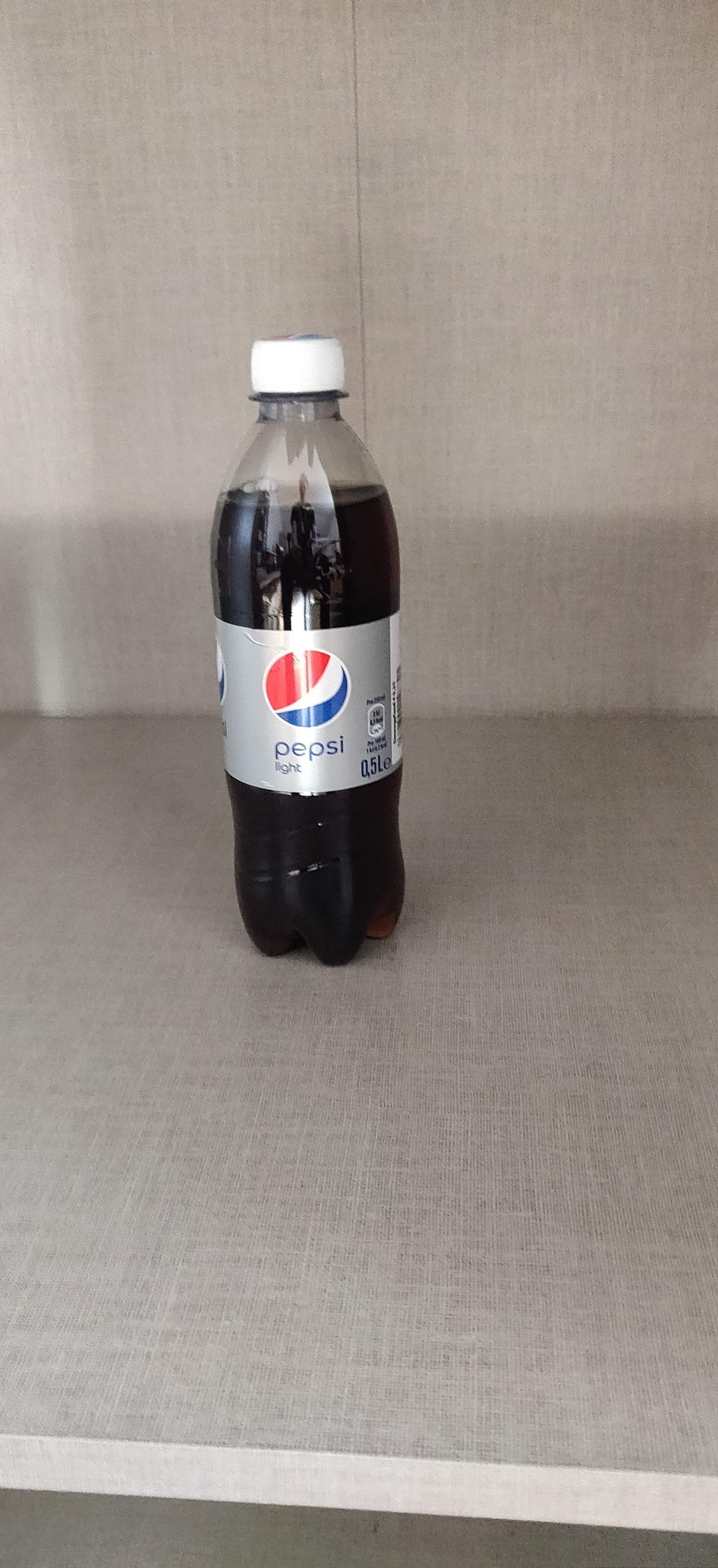bottle-plastic: (208, 331, 417, 968)
